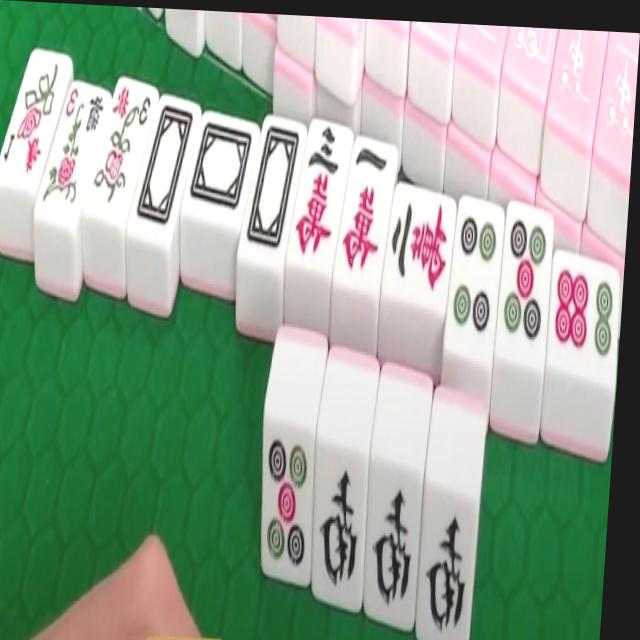1C: (335, 136, 401, 286)
1S: (0, 52, 62, 182)
2C: (380, 186, 456, 308)
3C: (284, 118, 353, 268)
3F: (37, 80, 110, 207)
3S: (91, 80, 150, 210)
4D: (450, 197, 505, 349)
5D: (258, 419, 318, 579), (494, 204, 556, 356)
6D: (549, 257, 621, 370)
SW: (359, 467, 422, 620), (413, 496, 479, 640), (310, 453, 372, 601)
WD: (128, 95, 202, 236), (183, 113, 263, 227), (245, 108, 304, 262)
